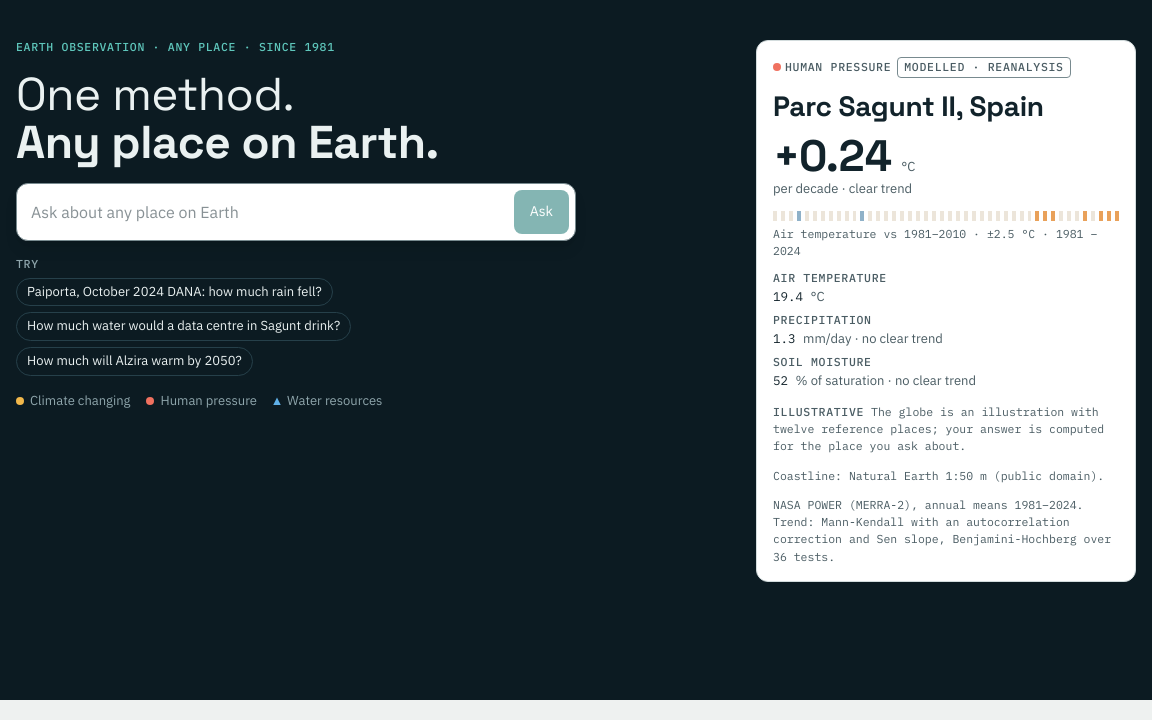
it: a plan that cannot be answered says why and offers the alternative, without running
Type "How deep is the sea floor?" into the search field named "Your question". click: (264, 212)
box: [23,190,506,234]
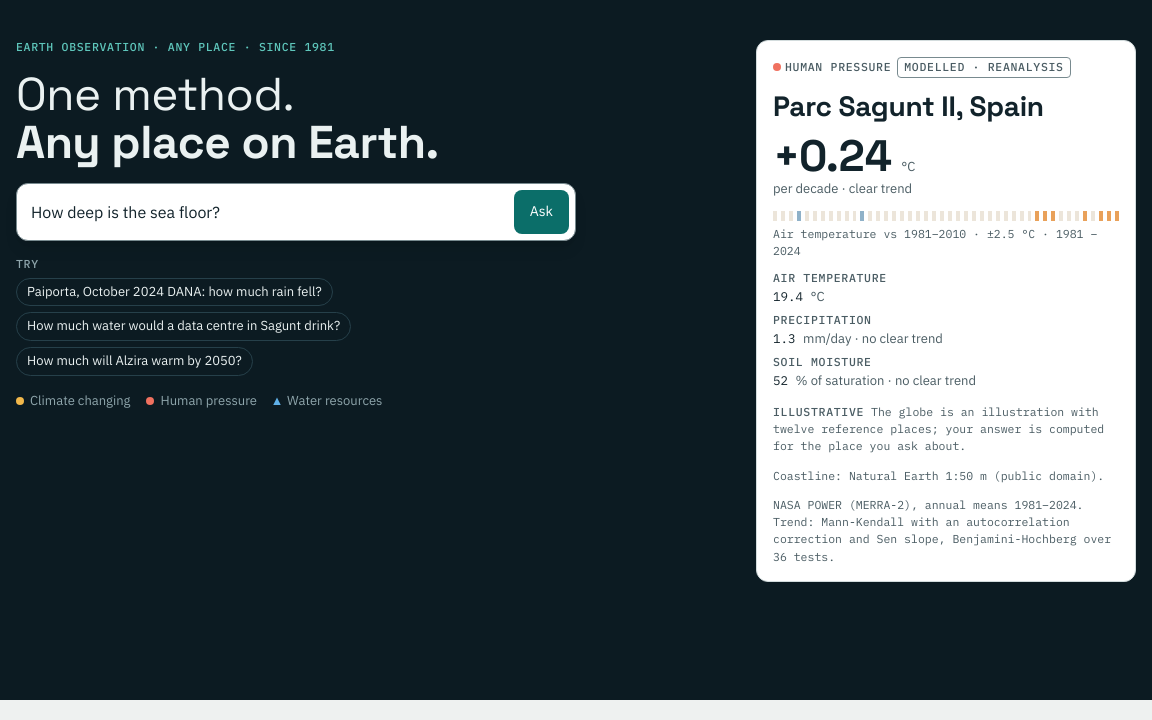
Click the button "Ask". click: (541, 212)
box: [514,190,569,234]
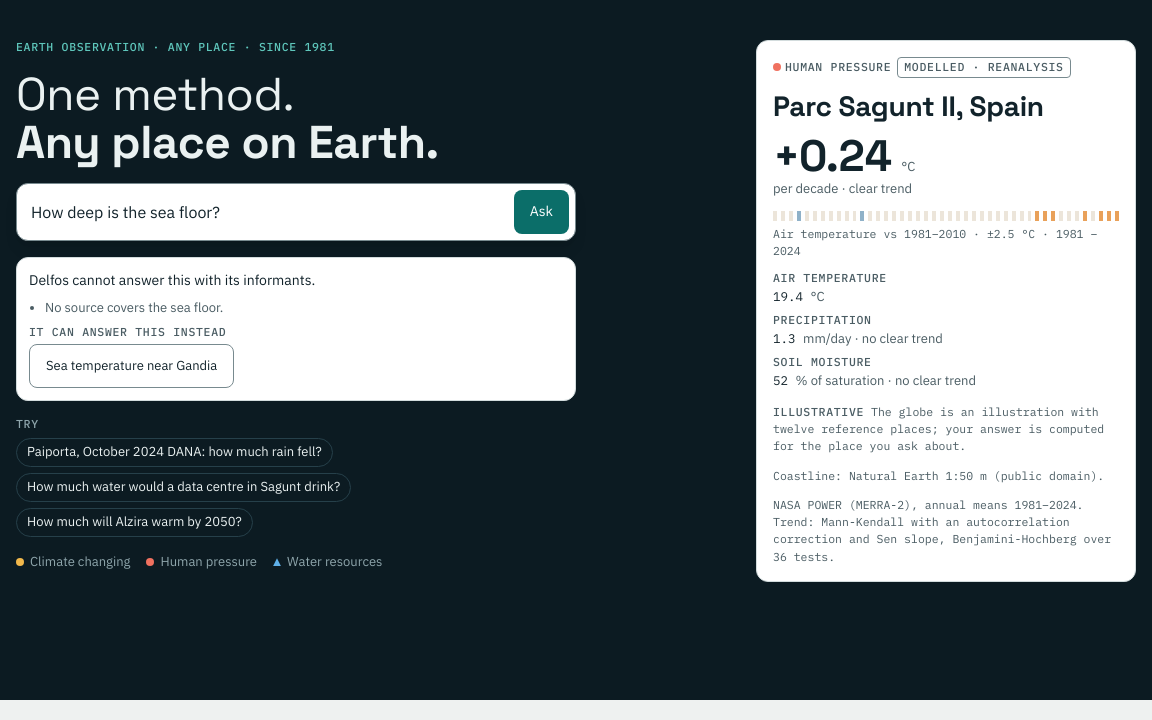
Expected: the list item "No source covers the sea floor." is shown, [45,299,223,316]
Expected: the button "Sea temperature near Gandia" is shown, [29,344,234,388]
